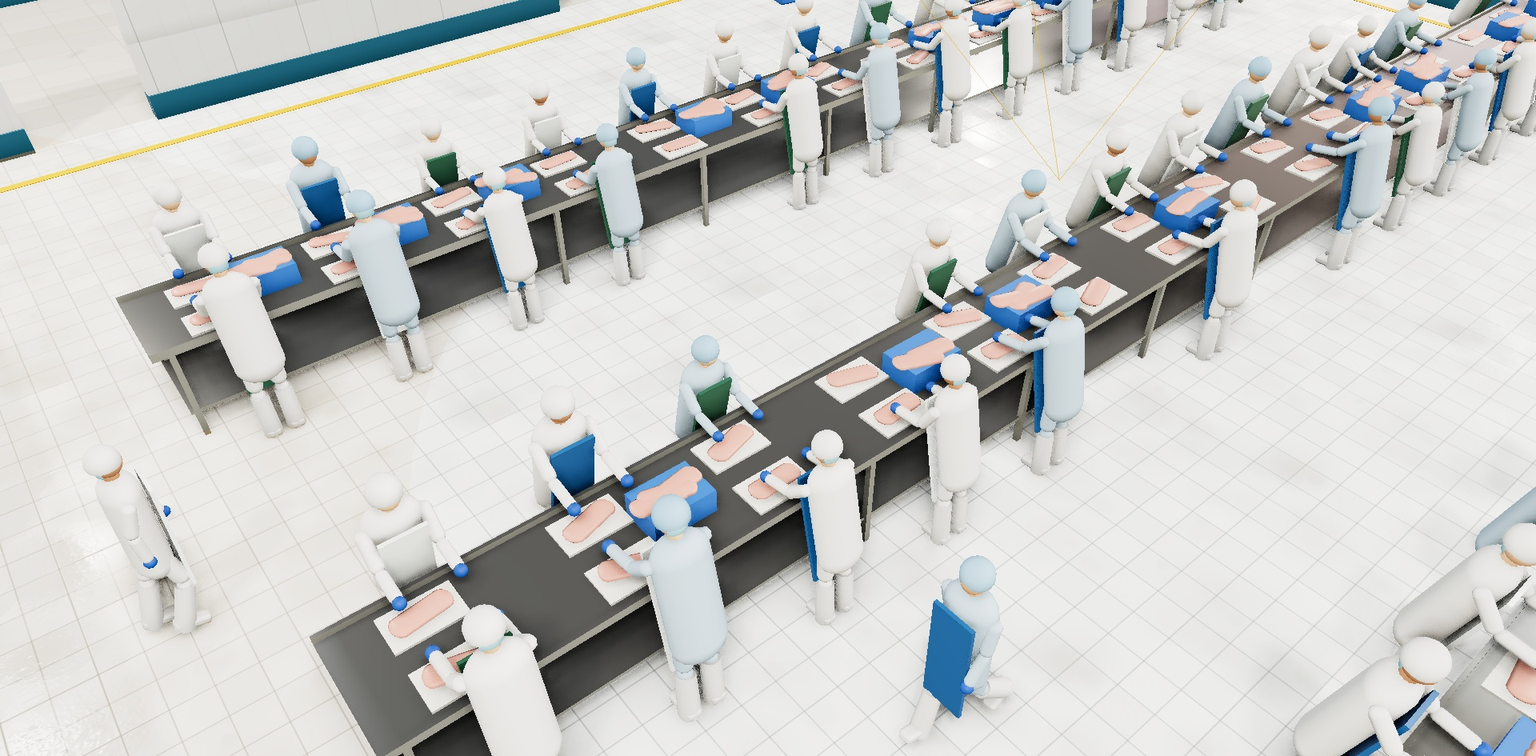apron: (1402, 552, 1536, 704), (362, 501, 458, 643), (1303, 663, 1440, 756), (456, 630, 554, 756), (639, 524, 714, 673), (201, 275, 288, 395), (533, 417, 609, 554), (127, 464, 203, 586), (156, 213, 239, 324), (345, 223, 419, 339), (1015, 317, 1083, 434), (1184, 211, 1255, 321), (1316, 128, 1390, 232), (919, 596, 980, 722), (913, 383, 977, 503), (292, 169, 363, 277), (795, 457, 853, 583), (1482, 478, 1536, 606), (1144, 120, 1205, 220), (682, 364, 735, 479), (993, 200, 1050, 306), (1073, 159, 1132, 261), (1208, 87, 1270, 184), (1267, 56, 1330, 151), (904, 248, 958, 356), (1425, 76, 1491, 163), (1374, 109, 1439, 197), (1471, 47, 1536, 132), (479, 194, 534, 294), (418, 145, 472, 237), (1367, 16, 1424, 96), (590, 153, 637, 250), (1319, 42, 1375, 123), (525, 108, 571, 199), (926, 24, 968, 113), (621, 76, 661, 165), (856, 52, 895, 143), (779, 83, 816, 175), (708, 47, 743, 134), (992, 13, 1031, 90), (856, 0, 892, 80), (787, 20, 820, 106), (1452, 0, 1510, 48), (1051, 0, 1091, 65), (920, 0, 958, 56), (1513, 21, 1536, 104), (1105, 0, 1147, 42), (979, 0, 1014, 36), (1155, 0, 1198, 21), (1033, 0, 1070, 16)
glove: (1464, 733, 1501, 756), (420, 637, 446, 669), (954, 672, 980, 703), (150, 498, 178, 525), (387, 589, 412, 618), (485, 601, 509, 631), (597, 532, 620, 561), (449, 557, 473, 584), (563, 496, 585, 523), (652, 502, 674, 529), (138, 550, 162, 574), (617, 468, 638, 494), (934, 618, 955, 643), (757, 465, 775, 488), (798, 442, 816, 464), (169, 264, 188, 283), (186, 291, 205, 310), (989, 327, 1007, 347), (710, 426, 727, 447), (218, 248, 236, 267), (237, 273, 255, 292), (1021, 309, 1039, 328), (923, 377, 940, 397), (887, 398, 904, 418), (750, 404, 766, 425), (327, 238, 344, 257), (307, 216, 324, 234), (372, 223, 389, 240), (1036, 248, 1053, 265), (1064, 233, 1081, 250), (1146, 189, 1163, 206), (1169, 226, 1186, 243), (939, 299, 955, 317), (1302, 139, 1320, 155), (351, 202, 367, 219), (970, 283, 986, 300), (1121, 203, 1138, 219), (1194, 212, 1211, 228), (1322, 128, 1340, 143), (1528, 652, 1536, 684), (1214, 150, 1231, 165), (458, 204, 473, 220), (1192, 162, 1208, 177), (1259, 126, 1275, 141), (1321, 93, 1338, 107), (1340, 83, 1357, 97), (1279, 115, 1295, 129), (494, 192, 508, 207), (1365, 121, 1381, 134), (1431, 78, 1447, 91), (1382, 111, 1397, 124), (1370, 72, 1385, 85), (1416, 87, 1431, 100), (1466, 59, 1481, 72), (433, 184, 446, 198), (467, 172, 480, 186), (540, 145, 553, 159), (603, 155, 616, 169), (570, 167, 583, 181), (1386, 64, 1401, 76), (1480, 51, 1495, 63), (1521, 25, 1536, 37), (639, 111, 651, 125), (668, 101, 680, 115), (1417, 45, 1431, 57), (1508, 33, 1523, 44), (572, 135, 584, 148), (784, 87, 796, 100), (757, 97, 769, 110), (832, 43, 844, 56), (836, 66, 848, 79), (907, 37, 919, 50), (1431, 38, 1445, 49), (880, 26, 892, 38), (903, 18, 915, 30), (931, 29, 943, 41), (945, 2, 957, 14), (808, 52, 819, 65), (862, 57, 873, 70), (726, 81, 737, 93), (753, 72, 764, 84), (1507, 0, 1521, 9), (995, 15, 1006, 26), (976, 22, 987, 33), (1038, 1, 1049, 11), (967, 0, 978, 6), (1056, 0, 1067, 5)
hairnet: (1386, 616, 1476, 698), (447, 583, 516, 660), (639, 475, 700, 544), (352, 455, 413, 519), (950, 541, 1008, 600), (1490, 504, 1536, 576), (530, 370, 585, 429), (70, 430, 129, 484), (802, 414, 852, 469), (931, 340, 980, 390), (187, 230, 236, 276), (1041, 274, 1090, 320), (684, 323, 728, 370), (336, 178, 382, 221), (1220, 169, 1268, 209), (143, 171, 188, 212), (919, 208, 961, 248), (1359, 87, 1405, 123), (283, 126, 325, 165), (1015, 160, 1056, 198), (1099, 119, 1140, 155), (1175, 81, 1215, 115), (475, 156, 512, 192), (1242, 49, 1282, 81), (1303, 18, 1343, 49), (589, 114, 624, 148), (1415, 74, 1454, 104), (1467, 41, 1506, 70), (413, 109, 448, 141), (782, 45, 814, 76), (523, 73, 555, 103), (864, 15, 896, 44), (1352, 9, 1387, 35), (621, 40, 652, 69), (710, 12, 739, 40), (1515, 12, 1536, 39), (938, 0, 970, 16), (791, 0, 819, 13), (1403, 0, 1437, 8), (1006, 0, 1034, 6)
person: (1333, 468, 1536, 756), (313, 424, 503, 721), (1234, 573, 1536, 756), (585, 432, 750, 746), (31, 413, 234, 663), (886, 498, 1069, 756), (492, 343, 651, 630), (394, 533, 597, 756), (157, 209, 323, 453), (972, 250, 1127, 490), (1141, 152, 1303, 373), (118, 155, 275, 383), (1267, 72, 1438, 281), (756, 382, 891, 644), (877, 315, 1018, 562), (306, 159, 450, 395), (1421, 409, 1536, 674), (258, 113, 396, 333), (1041, 106, 1179, 313), (963, 145, 1095, 360), (1232, 8, 1378, 198), (1111, 69, 1249, 269), (652, 302, 767, 541), (1175, 38, 1316, 232), (1332, 62, 1482, 240), (1381, 30, 1534, 204), (876, 192, 997, 411), (446, 139, 559, 342), (1287, 1, 1420, 165), (391, 97, 498, 284), (562, 101, 659, 296), (1429, 2, 1536, 172), (1335, 0, 1466, 135), (501, 62, 595, 244), (832, 5, 920, 186), (599, 31, 685, 210), (756, 35, 838, 219), (900, 0, 994, 155), (688, 4, 764, 177), (769, 0, 846, 149), (1492, 333, 1536, 589), (966, 0, 1055, 126), (837, 0, 920, 121), (1420, 0, 1536, 86), (1470, 0, 1536, 143), (1025, 0, 1117, 101), (900, 0, 985, 96), (1079, 0, 1173, 77), (960, 0, 1040, 71), (1126, 0, 1225, 56), (1013, 0, 1097, 50), (1172, 0, 1272, 36), (1510, 0, 1536, 116)
